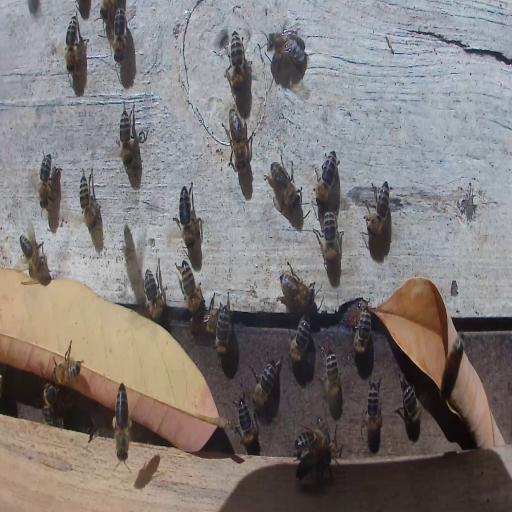nonpollenbee: (268, 161, 302, 216), (278, 264, 314, 310), (250, 354, 280, 409), (295, 445, 333, 486), (398, 377, 422, 440), (176, 258, 203, 314), (365, 180, 391, 238), (314, 148, 340, 206), (441, 335, 464, 400), (177, 181, 199, 248), (266, 29, 306, 64), (19, 229, 46, 280), (78, 166, 98, 234), (320, 346, 340, 411), (236, 398, 259, 454), (230, 110, 251, 170), (144, 264, 166, 320), (364, 376, 382, 444), (320, 210, 341, 265), (229, 30, 247, 94), (343, 304, 373, 340), (288, 314, 310, 363), (118, 106, 134, 168), (294, 424, 324, 456), (38, 149, 53, 211), (215, 297, 231, 354), (189, 308, 220, 337), (110, 6, 126, 60), (52, 359, 82, 385), (65, 15, 77, 74), (43, 384, 66, 412), (43, 402, 54, 424)
pollenbee: (112, 382, 134, 460)
